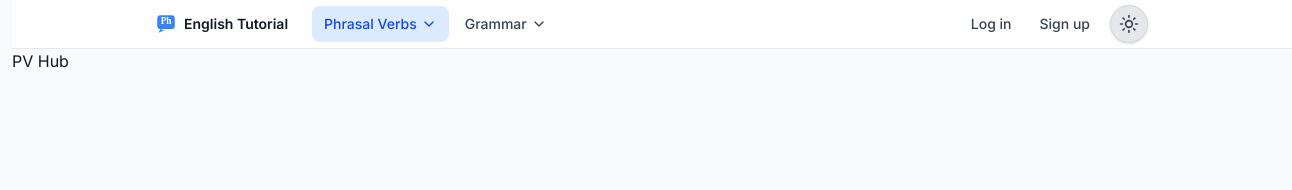
Test: NavigationMenu — desktop dropdowns › clicking Phrasal Verbs opens the dropdown
Click the button with test id "nav-phrasal-verbs" at (380, 24), box x1=312 y1=6 x2=449 y2=42
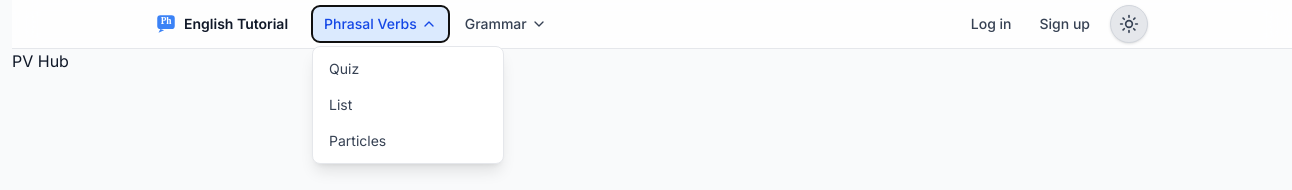
Now the element with test id "dropdown-phrasal-verbs" is shown, box x1=312 y1=46 x2=504 y2=164
